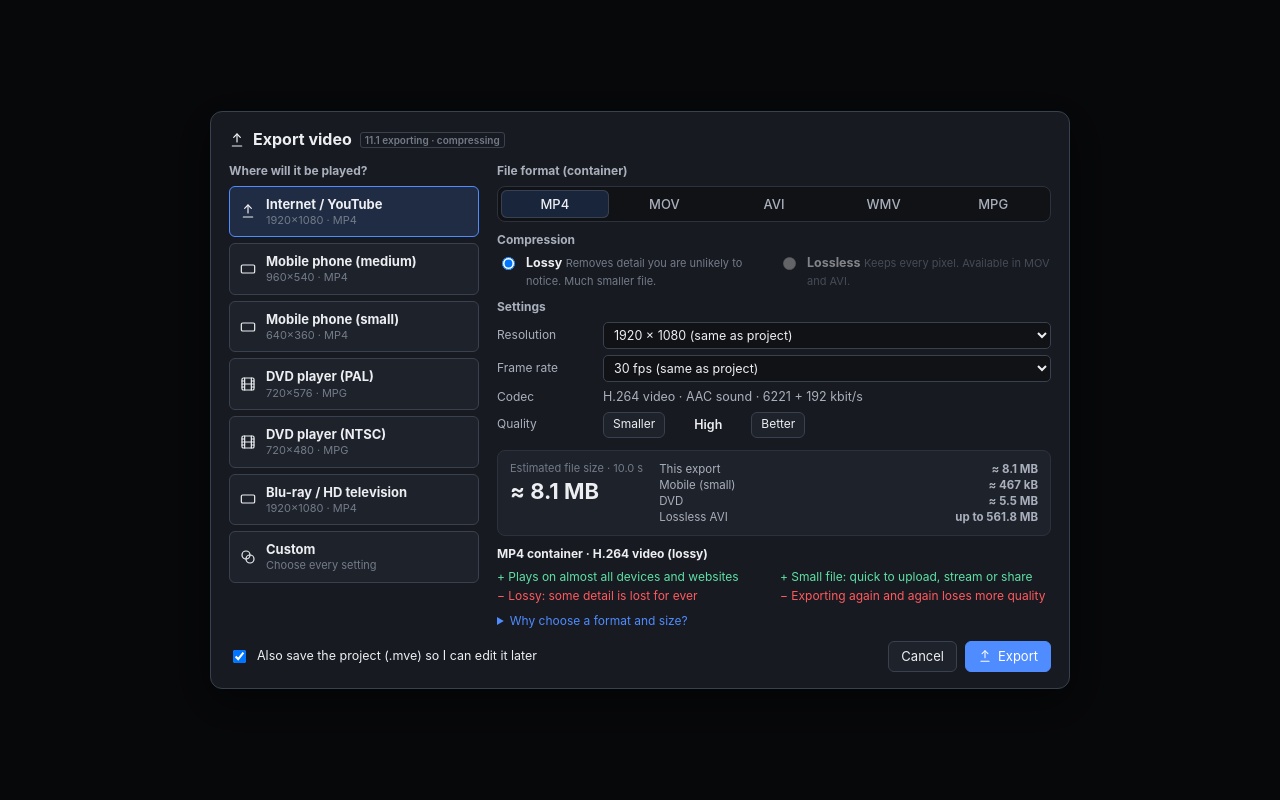
Scenario: export dialog › Book A 11.15: lossless AVI shows the codec, an "up to" size and that the file is very large
Click the button "AVI": point(774, 204) [720, 190, 828, 218]
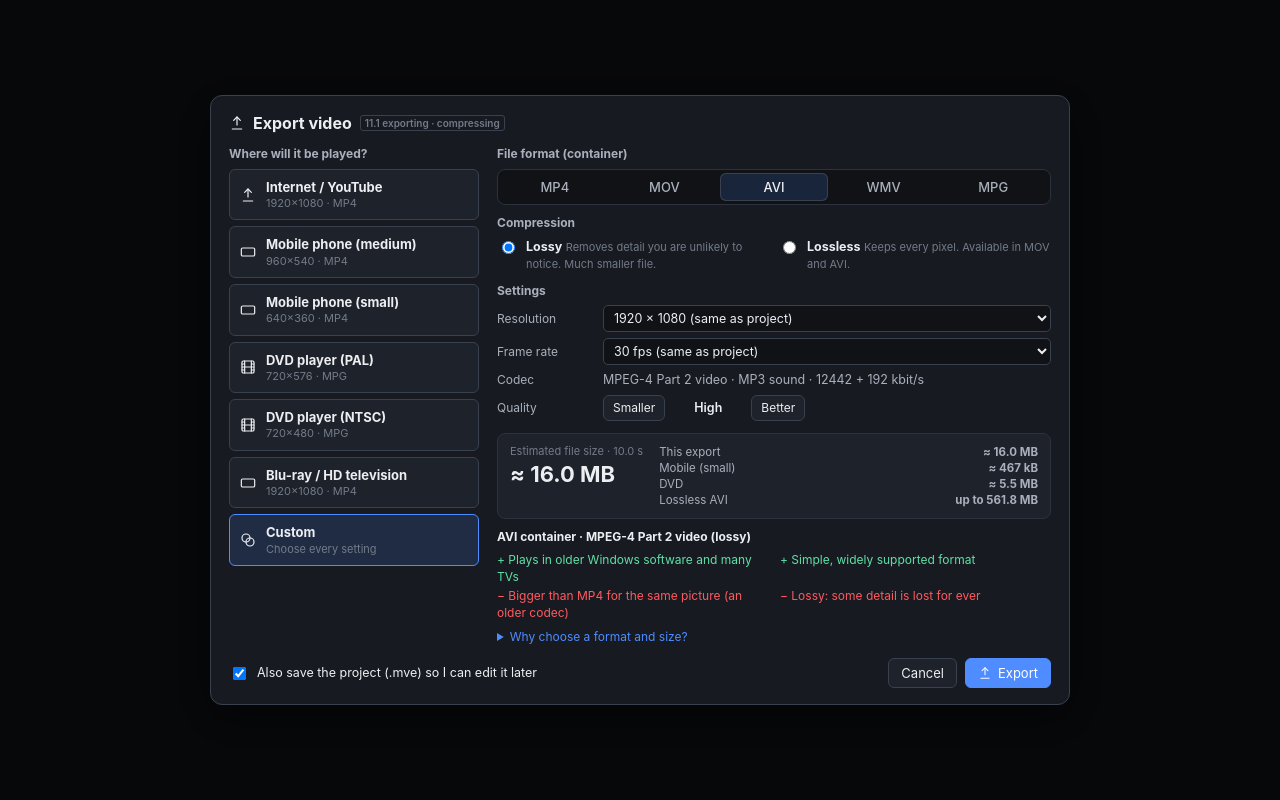
Click the radio button labelled "Lossless": point(790, 247) [783, 241, 796, 254]
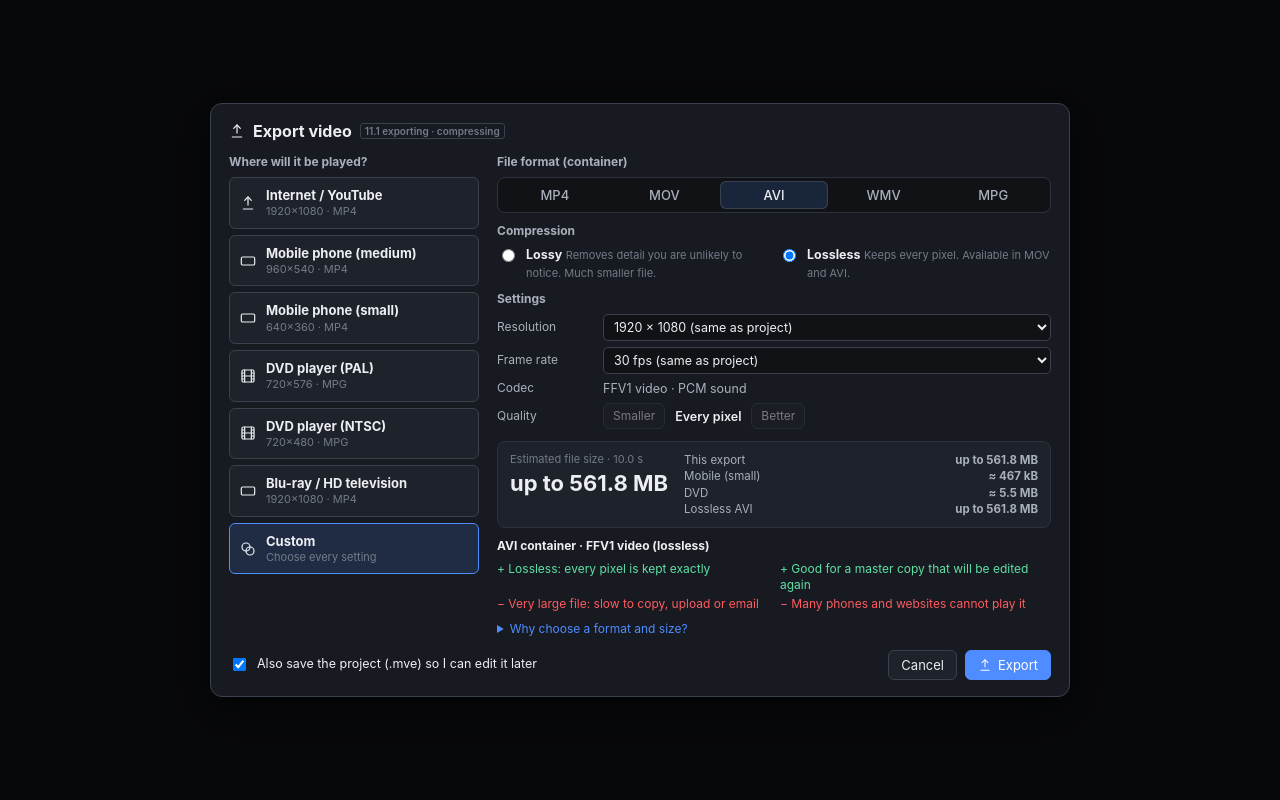
Check: the text "FFV1 video · PCM sound" is shown, box [603, 381, 747, 396]
Check: the text named "Estimated file size" shows "up to", box [510, 470, 668, 496]
Check: the list item "− Very large file: slow to copy, upload or email" is shown, box [497, 596, 768, 613]
Going to a container without lossless goes back to lossy.
Click the button "WMV": point(884, 195) [830, 181, 937, 209]
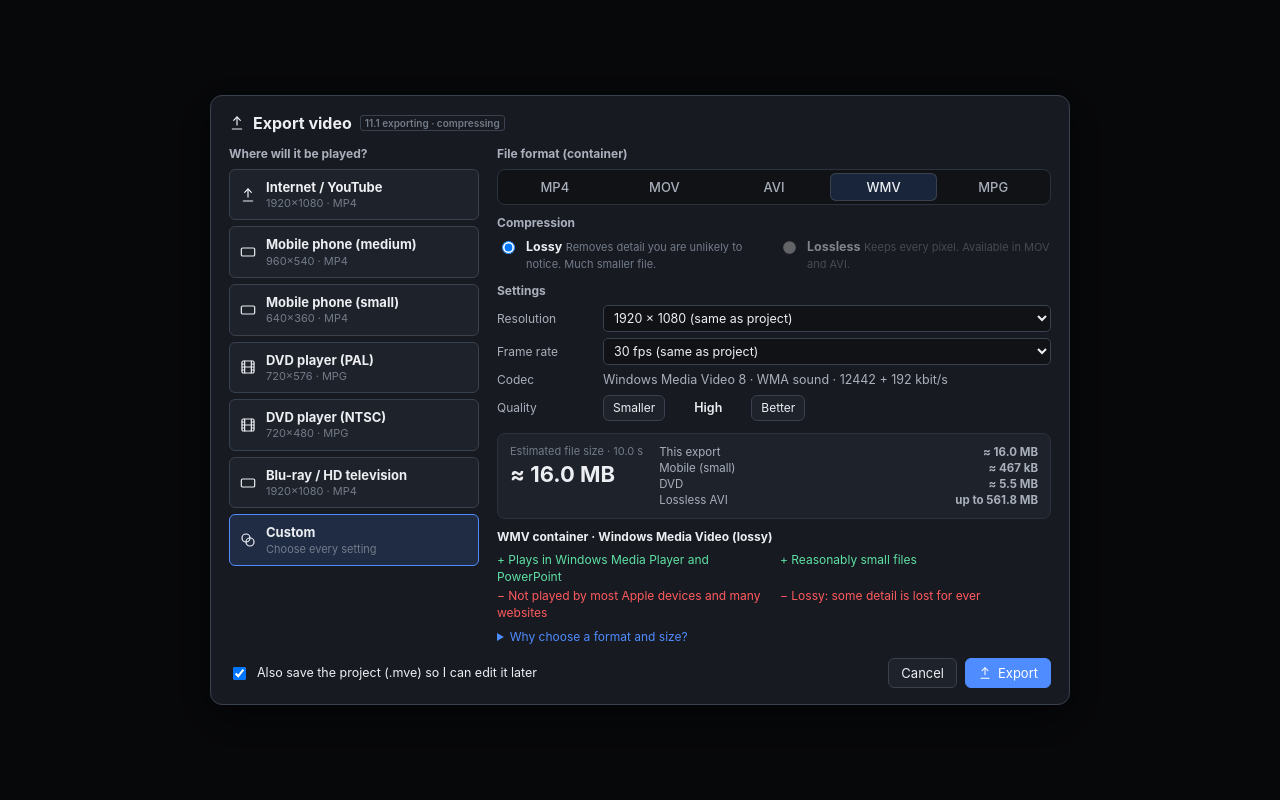
Check: the radio button labelled "Lossy" is checked, box [502, 241, 515, 254]
